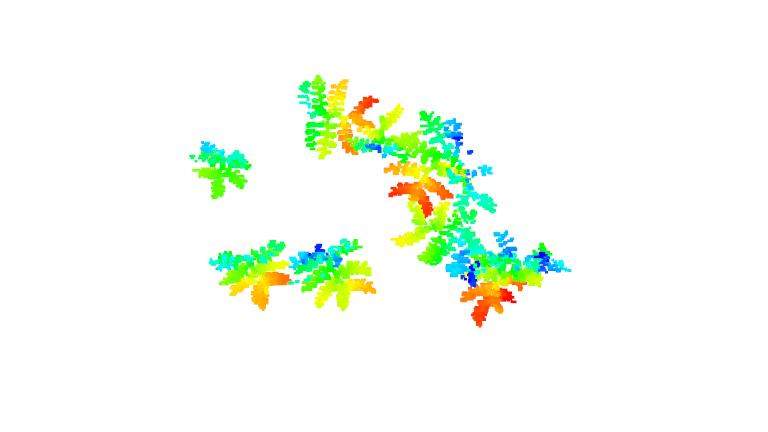chickpea: (456, 234, 572, 325), (396, 166, 501, 265), (380, 108, 466, 214), (291, 235, 382, 315), (198, 239, 293, 314), (299, 75, 379, 162), (186, 140, 255, 200)
